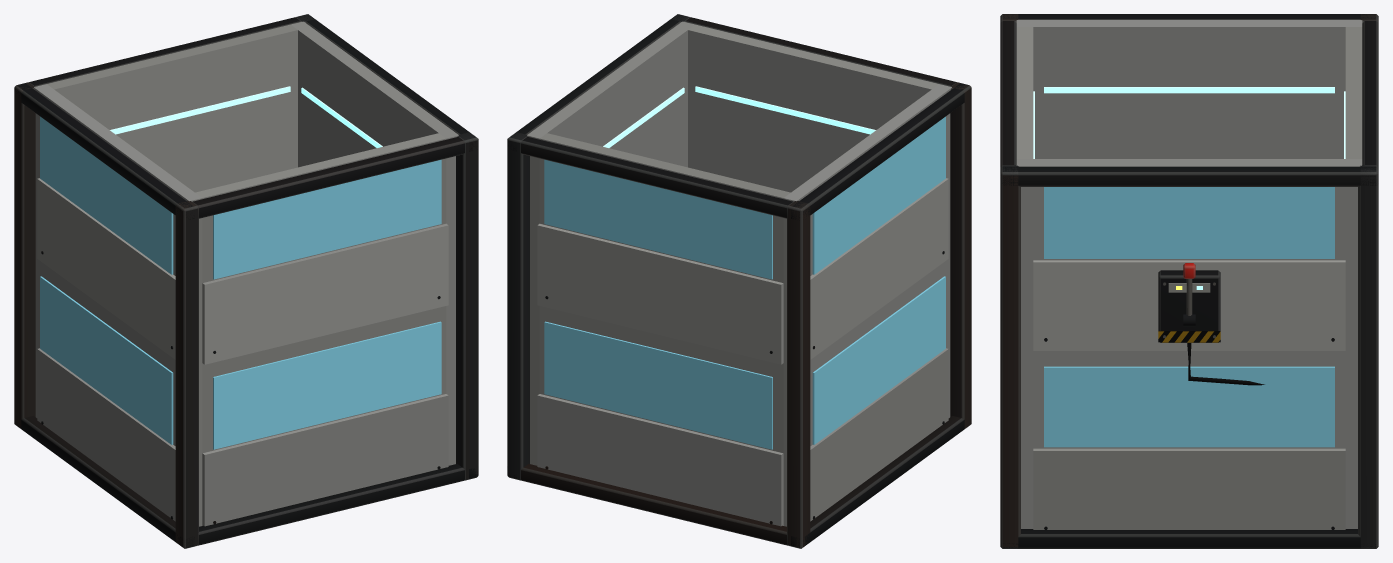
The model's file is chute_adv_dropper_down.glb.
3 renders of one model, left to right at view 1: azimuth 30°, elevation 25°; view 2: azimuth 150°, elevation 25°; view 3: azimuth 270°, elevation 25°, orthographic. The views are drawn at different scales.
Visible parts, largest first — view 1: Frame, Power; view 2: Frame, Power; view 3: Frame, Power, Lever.
Part boxes in pixels (<box>): Frame: <box>14,14,478,548</box>; Power: <box>110,86,382,147</box>; Frame: <box>507,14,971,548</box>; Power: <box>603,86,875,147</box>; Frame: <box>1000,14,1378,548</box>; Power: <box>1033,87,1345,158</box>; Lever: <box>1183,263,1195,326</box>.
Size of the model in its own units: 1.92 by 2 by 1.82.
